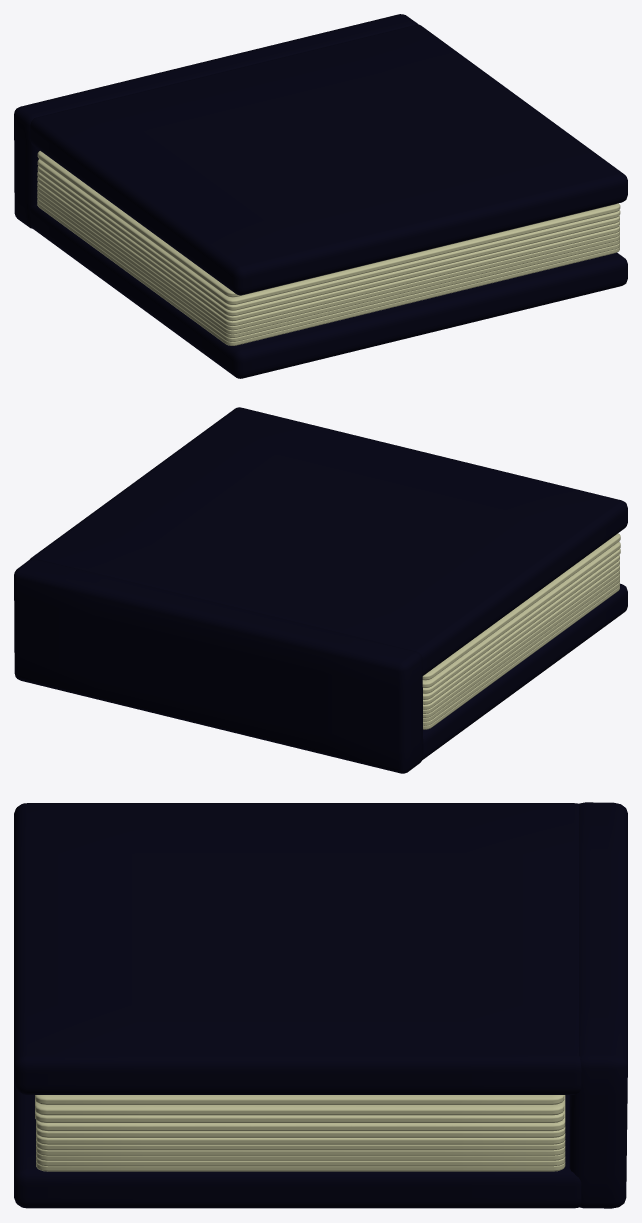
The model's file is book5.FBX.
3 views of the same model, one above another, from view 1: azimuth 30°, elevation 25°; view 2: azimuth 150°, elevation 25°; view 3: azimuth 270°, elevation 25° (orthographic). The views are drawn at different scales.
Parts seen in each view (by area): view 1: ChamferBox003, ChamferBox002, ChamferBox001, ChamferBox012, ChamferBox013, ChamferBox011, ChamferBox008, ChamferBox010, ChamferBox009, ChamferBox006, ChamferBox005, ChamferBox004 (+2 smaller); view 2: ChamferBox003, ChamferBox001, ChamferBox002, ChamferBox014, ChamferBox012, ChamferBox013, ChamferBox011, ChamferBox008, ChamferBox010, ChamferBox009, ChamferBox005, ChamferBox006 (+2 smaller); view 3: ChamferBox003, ChamferBox002, ChamferBox001, ChamferBox012, ChamferBox014, ChamferBox011, ChamferBox013, ChamferBox008, ChamferBox010, ChamferBox009, ChamferBox005, ChamferBox006 (+2 smaller).
Boxes of the visible parts, x1,y1,x2,y2 form: ChamferBox003: [30, 24, 627, 295]; ChamferBox002: [30, 204, 627, 378]; ChamferBox001: [14, 14, 418, 228]; ChamferBox012: [37, 159, 620, 304]; ChamferBox013: [37, 166, 620, 310]; ChamferBox011: [37, 171, 619, 316]; ChamferBox008: [37, 182, 619, 325]; ChamferBox010: [37, 177, 619, 321]; ChamferBox009: [37, 186, 619, 330]; ChamferBox006: [37, 190, 619, 334]; ChamferBox005: [37, 198, 619, 341]; ChamferBox004: [37, 202, 619, 345]; ChamferBox003: [30, 407, 627, 675]; ChamferBox001: [14, 558, 423, 773]; ChamferBox002: [422, 583, 627, 759]; ChamferBox014: [422, 533, 620, 680]; ChamferBox012: [422, 542, 620, 687]; ChamferBox013: [423, 548, 620, 693]; ChamferBox011: [423, 555, 619, 699]; ChamferBox008: [423, 565, 619, 709]; ChamferBox010: [423, 560, 619, 704]; ChamferBox009: [423, 570, 619, 713]; ChamferBox005: [423, 581, 619, 725]; ChamferBox006: [423, 574, 619, 717]; ChamferBox003: [14, 803, 581, 1094]; ChamferBox002: [14, 1085, 581, 1208]; ChamferBox001: [569, 802, 627, 1208]; ChamferBox012: [35, 1100, 564, 1115]; ChamferBox014: [35, 1095, 564, 1104]; ChamferBox011: [36, 1095, 565, 1131]; ChamferBox013: [35, 1110, 564, 1122]; ChamferBox008: [36, 1133, 565, 1144]; ChamferBox010: [36, 1126, 565, 1137]; ChamferBox009: [36, 1140, 565, 1150]; ChamferBox005: [36, 1156, 565, 1166]; ChamferBox006: [36, 1146, 565, 1155].
Size of the model in its own units: 21.64 by 5.91 by 21.51.
